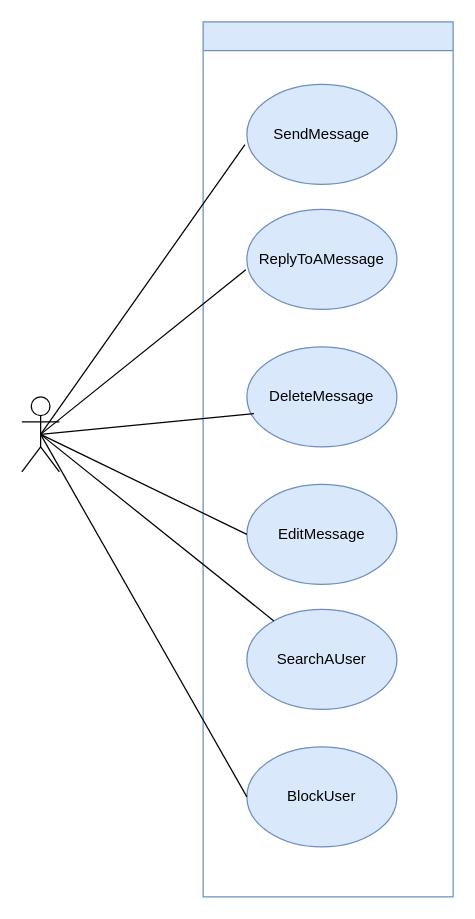
Image size: 475x919. Some labels were removed from this diagram. Each missing label, with the box of its shape:
MessageNoID: (202, 21, 453, 897)
User: (21, 396, 59, 472)
